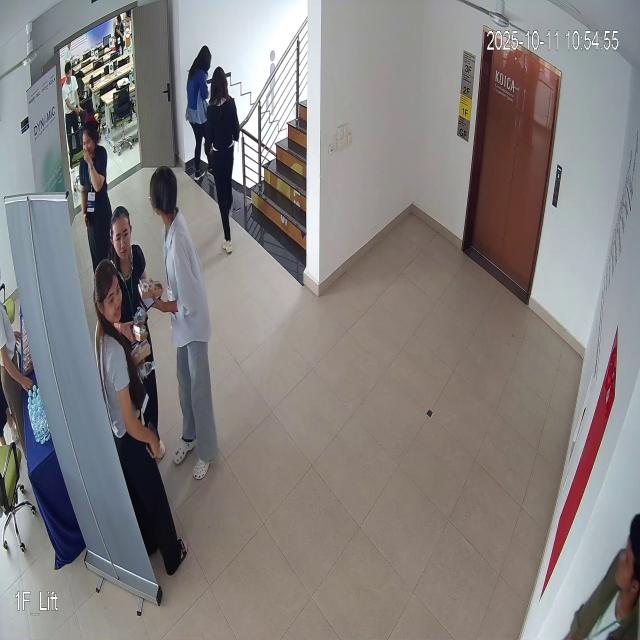face: (104, 191, 140, 281), (92, 260, 125, 332)
